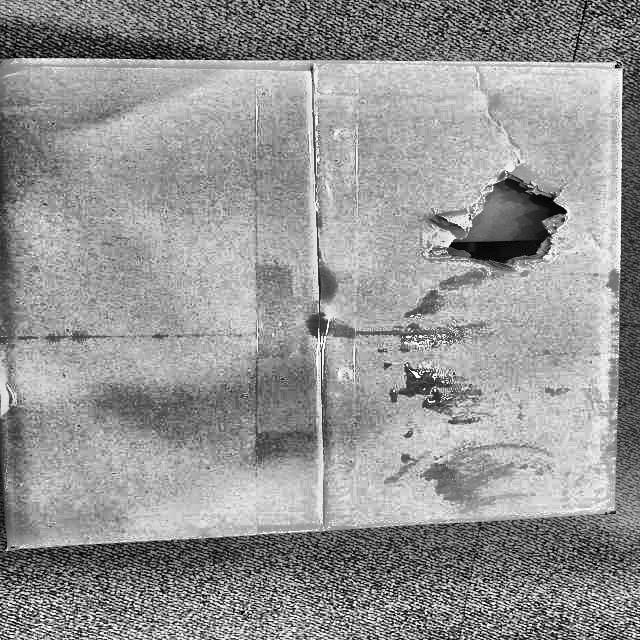box: (0, 45, 623, 562)
hole: (409, 164, 575, 279)
